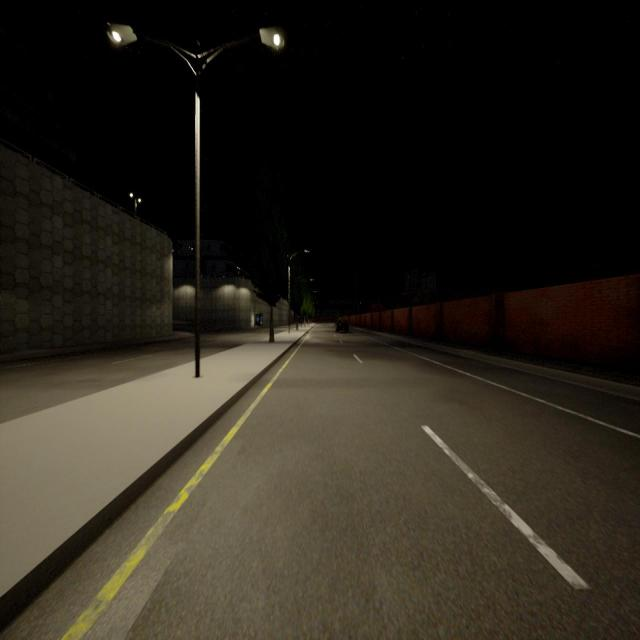Vehicle: (336, 320, 348, 332)
